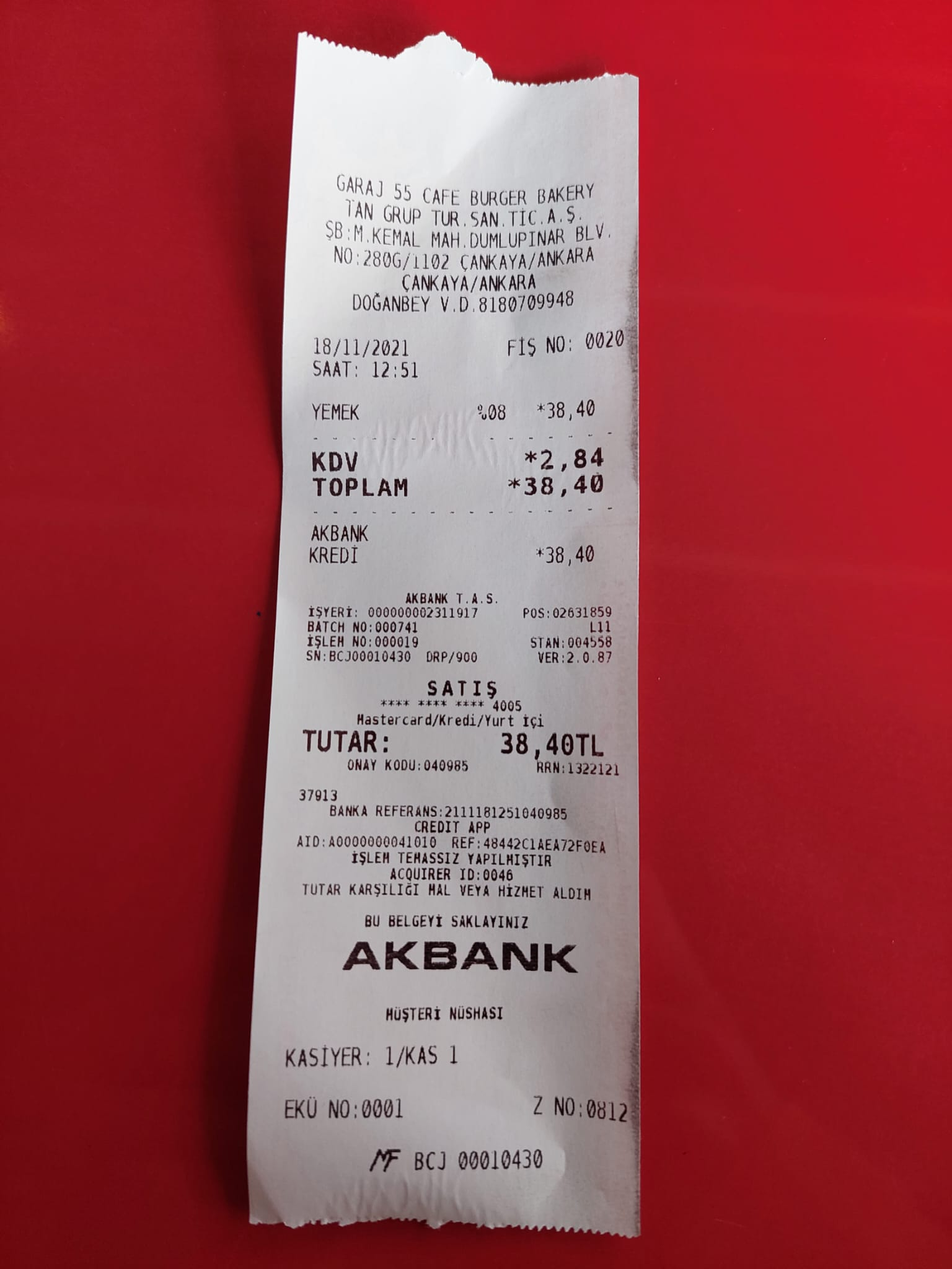date: (310, 330, 415, 362)
price: (520, 470, 616, 503)
workplace: (316, 164, 620, 295)
